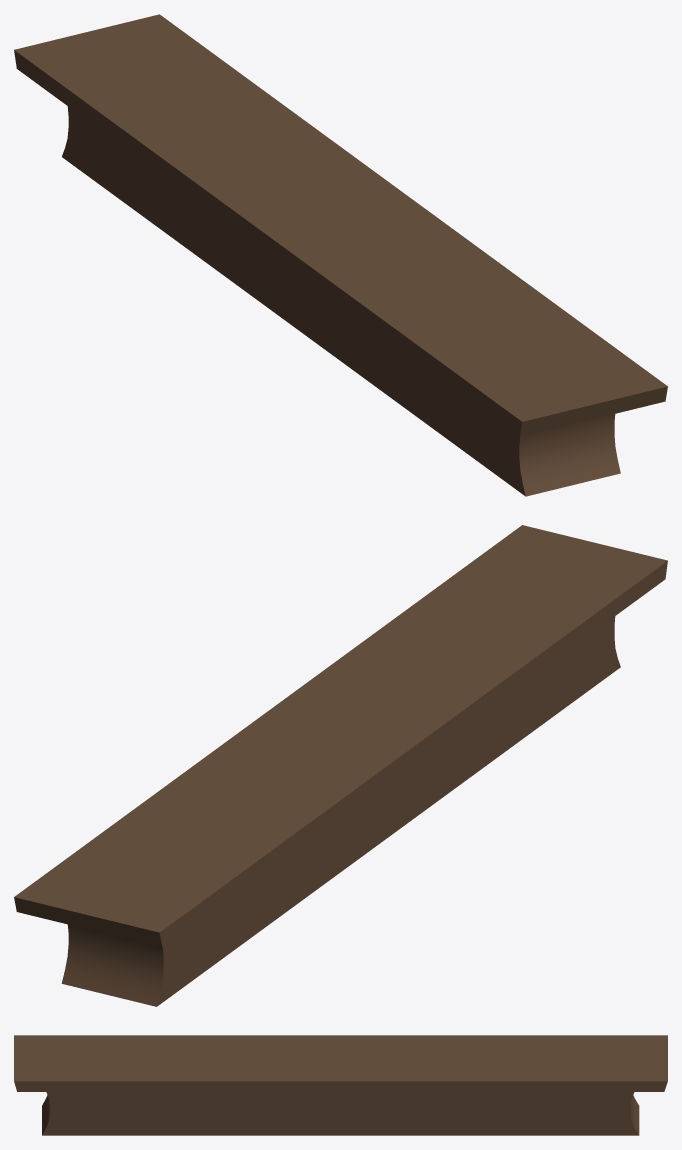
Rendered from BS_bench zonder leuning.fbx.
3 renders of one model, top to bottom at view 1: azimuth 30°, elevation 25°; view 2: azimuth 150°, elevation 25°; view 3: azimuth 270°, elevation 25°, orthographic. The views are drawn at different scales.
Parts seen in each view (by area): view 1: Cube.031; view 2: Cube.031; view 3: Cube.031.
Part boxes in pixels (<box>): Cube.031: <box>14,14,667,496</box>; Cube.031: <box>14,525,667,1006</box>; Cube.031: <box>14,1035,667,1135</box>.
Size of the model in its own units: 0.5936 by 0.3772 by 3.59.
